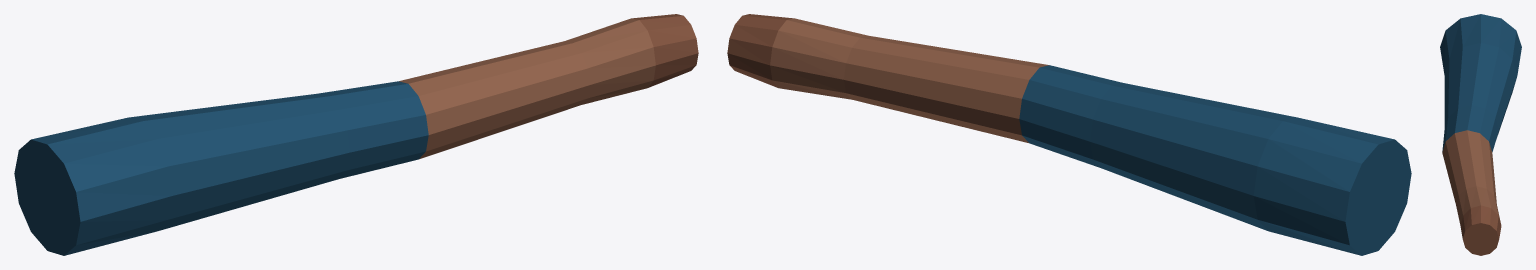
Rendered from SM_RowerArm.obj.
3 views of the same model, side by side, from view 1: azimuth 30°, elevation 25°; view 2: azimuth 150°, elevation 25°; view 3: azimuth 270°, elevation 25° (orthographic). The views are drawn at different scales.
Visible parts, largest first — view 1: SM_RowerArm; view 2: SM_RowerArm; view 3: SM_RowerArm.
Part boxes in pixels (x1=…): SM_RowerArm: x1=14, y1=14, x2=698, y2=255; SM_RowerArm: x1=727, y1=14, x2=1411, y2=255; SM_RowerArm: x1=1440, y1=14, x2=1521, y2=255.
Size of the model in its own units: 100 by 16 by 18.
